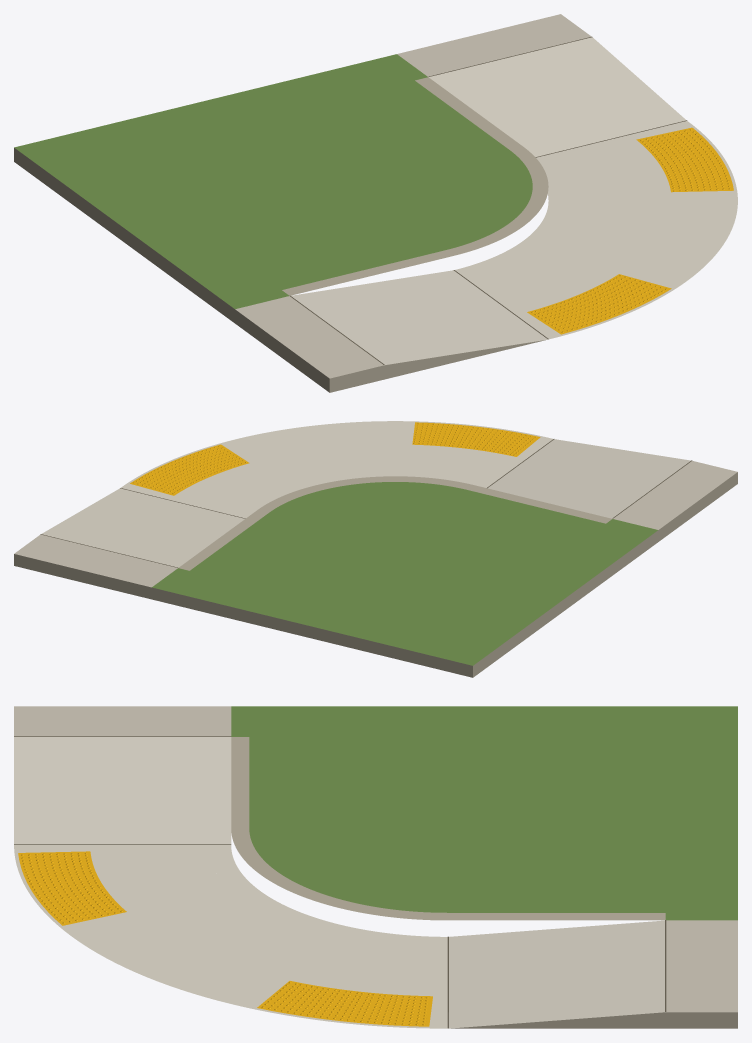
File: ramp-422c.glb
The picture shows the model from 3 angles, top to bottom: view 1: azimuth 30°, elevation 25°; view 2: azimuth 150°, elevation 25°; view 3: azimuth 270°, elevation 25°; orthographic projection. The views are drawn at different scales.
Parts seen in each view (by area): view 1: Seattle Type 422C: Parallel ramps at the corner; view 2: Seattle Type 422C: Parallel ramps at the corner; view 3: Seattle Type 422C: Parallel ramps at the corner.
Part boxes in pixels (x1,y1,x2,y2): Seattle Type 422C: Parallel ramps at the corner: (14,14,737,392); Seattle Type 422C: Parallel ramps at the corner: (14,421,737,677); Seattle Type 422C: Parallel ramps at the corner: (14,706,737,1028).
Bounding box in the file's own units: 6.1 × 0.1554 × 6.1.
